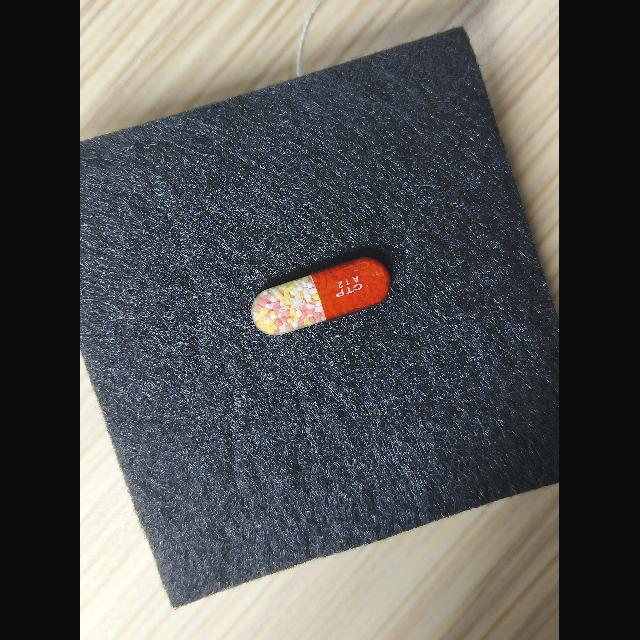Intact Capsule: (252, 257, 391, 335)
